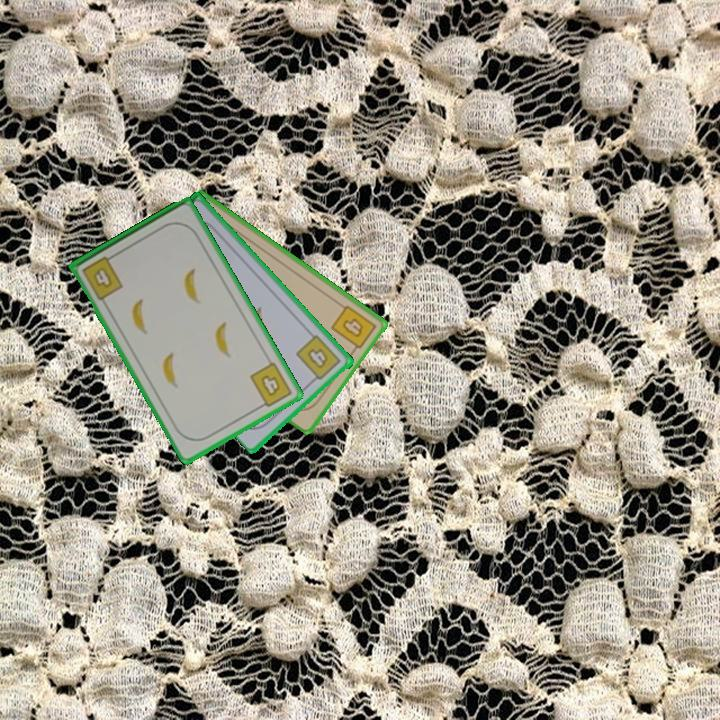4b: (327, 301, 379, 356), (293, 331, 344, 386), (246, 359, 295, 412), (78, 251, 126, 303)
